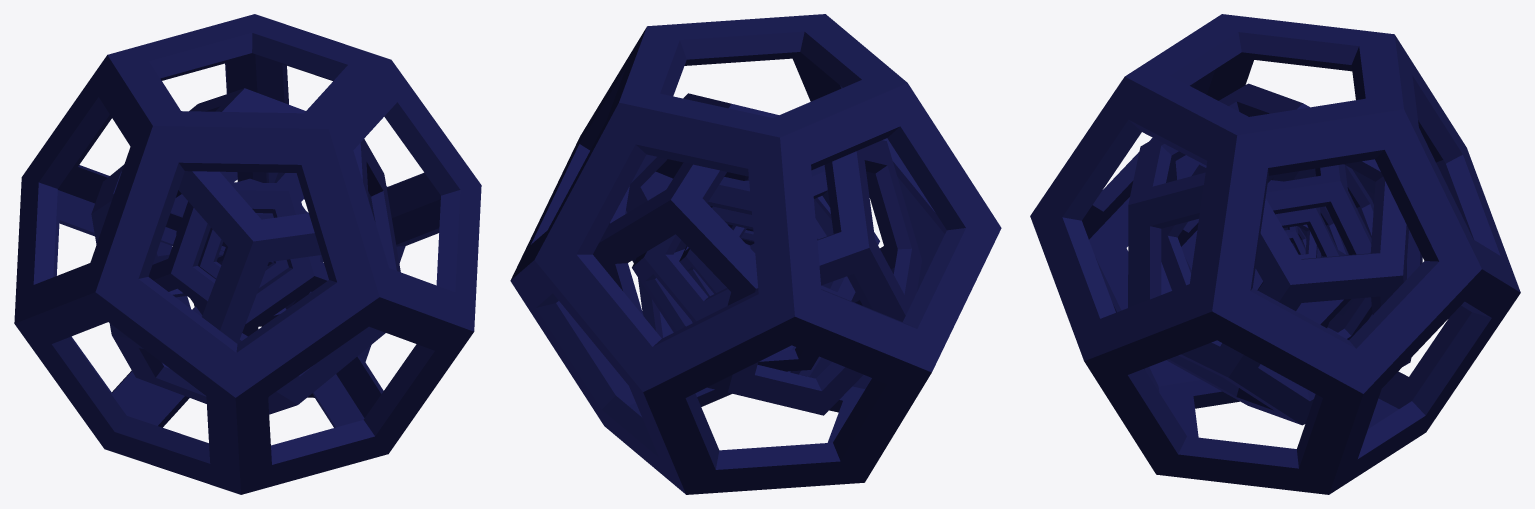
Rendered from Orb.fbx.
3 views of the same model, side by side, from view 1: azimuth 30°, elevation 25°; view 2: azimuth 150°, elevation 25°; view 3: azimuth 270°, elevation 25° (orthographic). The views are drawn at different scales.
Visible parts, largest first — view 1: pPlatonic7; view 2: pPlatonic7; view 3: pPlatonic7.
Part boxes in pixels (bbox=[...]): pPlatonic7: bbox=[14, 14, 481, 494]; pPlatonic7: bbox=[510, 14, 1001, 494]; pPlatonic7: bbox=[1030, 14, 1520, 494].
Size of the model in its own units: 296 by 249 by 306.
